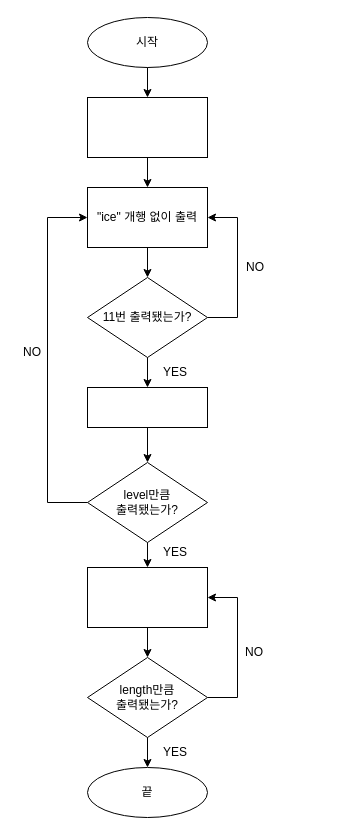
This 337x835 diagram has some shape labels left out. The centre of each missing label's shape, as x and y in pixels:
" \(stick) \(stick) " 출력: the point at 147,597
sweetIce : "*" woodStick : "|": the point at 147,127
개행: the point at 147,407
